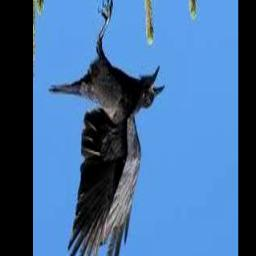Crow: (49, 0, 165, 256)
